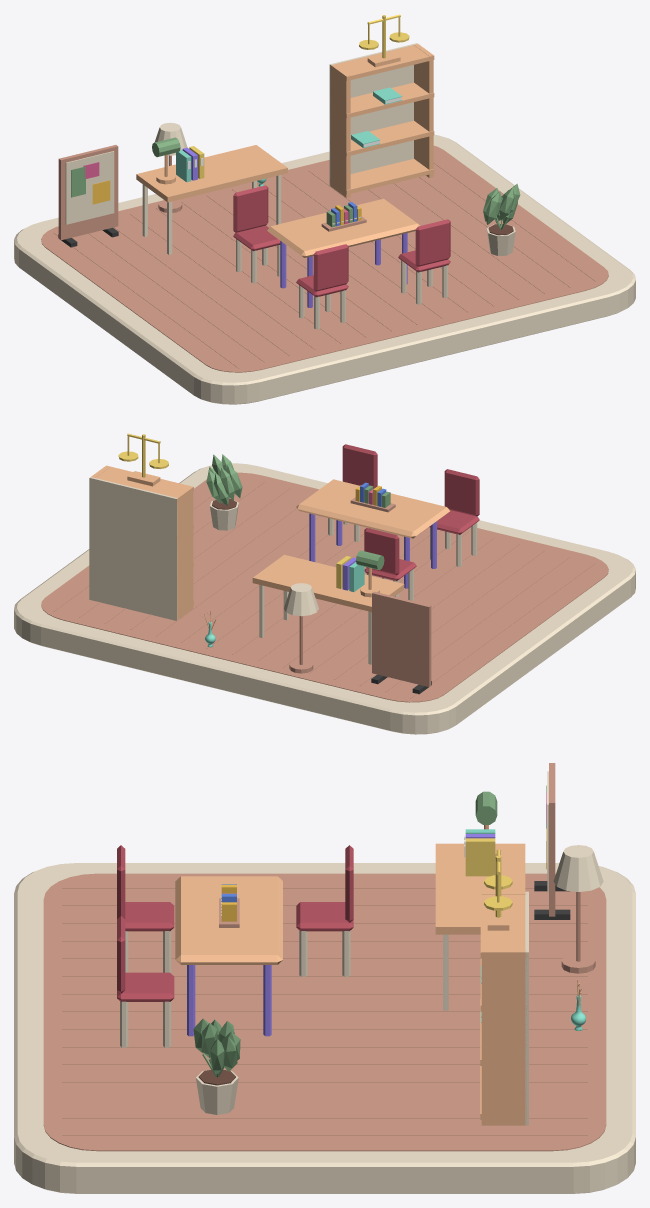
File: room.fbx
3 views of the same model, one above another, from view 1: azimuth 30°, elevation 25°; view 2: azimuth 150°, elevation 25°; view 3: azimuth 270°, elevation 25° (orthographic). The views are drawn at different scales.
Parts seen in each view (by area): view 1: COM-02 Floor Surface, COM-01 Rounded Base Direct, Top, Rounded table top, Back, Side, Canvas, Panel, Pot, Side.001, Shelf, Backrest (+6 smaller); view 2: COM-02 Floor Surface, COM-01 Rounded Base Direct, Back, Panel, Rounded table top, Top, Side, Pot, Backrest, Backrest.001, Backrest.002, Shelf.003 (+2 smaller); view 3: COM-02 Floor Surface, COM-01 Rounded Base Direct, Rounded table top, Side.001, Top, Pot, Shelf.003, Lamp shade, Seat.001, Seat.002, Seat, File.002 (+15 smaller).
Part boxes in pixels (x1,y1,x2,y2): COM-02 Floor Surface: (41, 145, 608, 372); COM-01 Rounded Base Direct: (14, 134, 635, 404); Top: (136, 145, 287, 254); Rounded table top: (267, 198, 420, 257); Back: (329, 43, 417, 186); Side: (330, 64, 350, 197); Canvas: (65, 151, 114, 224); Panel: (58, 145, 118, 240); Pot: (483, 183, 520, 255); Side.001: (414, 44, 433, 177); Shelf: (330, 159, 434, 194); Backrest: (313, 244, 348, 291); COM-02 Floor Surface: (41, 472, 608, 702); COM-01 Rounded Base Direct: (14, 463, 635, 734); Back: (89, 477, 177, 620); Panel: (372, 591, 431, 686); Rounded table top: (296, 479, 449, 538); Top: (252, 554, 404, 664); Side: (173, 486, 193, 619); Pot: (206, 454, 242, 530); Backrest: (444, 469, 479, 516); Backrest.001: (342, 444, 377, 488); Backrest.002: (364, 528, 399, 575); Shelf.003: (96, 465, 193, 502); COM-02 Floor Surface: (43, 873, 606, 1151); COM-01 Rounded Base Direct: (14, 863, 635, 1193); Rounded table top: (175, 876, 282, 964); Side.001: (481, 949, 526, 1125); Top: (435, 843, 525, 1010); Pot: (193, 1018, 240, 1114); Shelf.003: (480, 892, 528, 958); Lamp shade: (553, 845, 603, 891); Seat.001: (117, 972, 174, 1001); Seat.002: (296, 902, 353, 931); Seat: (125, 902, 174, 931); File.002: (465, 838, 495, 876).
Bounding box in the file's own units: 600 × 250 × 520.
